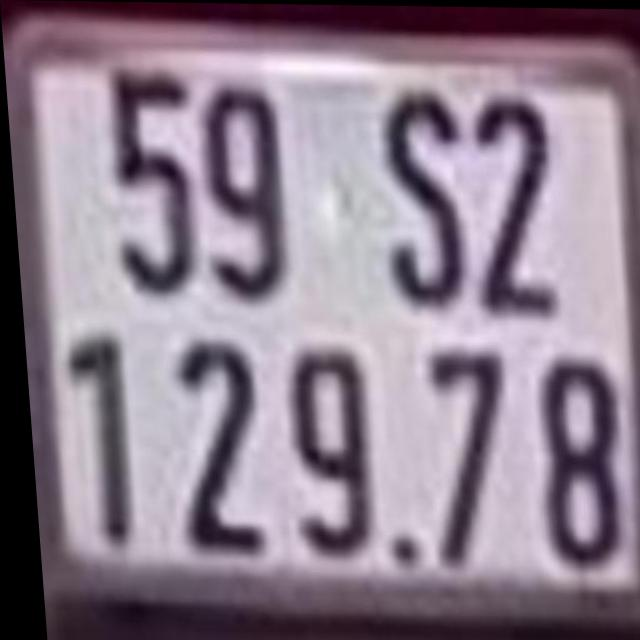1: (60, 340, 136, 544)
2: (464, 85, 557, 322), (171, 337, 257, 555)
5: (106, 66, 196, 291)
7: (422, 345, 513, 569)
8: (535, 352, 618, 564)
9: (282, 344, 366, 553), (207, 86, 288, 296)
S: (380, 87, 462, 313)
